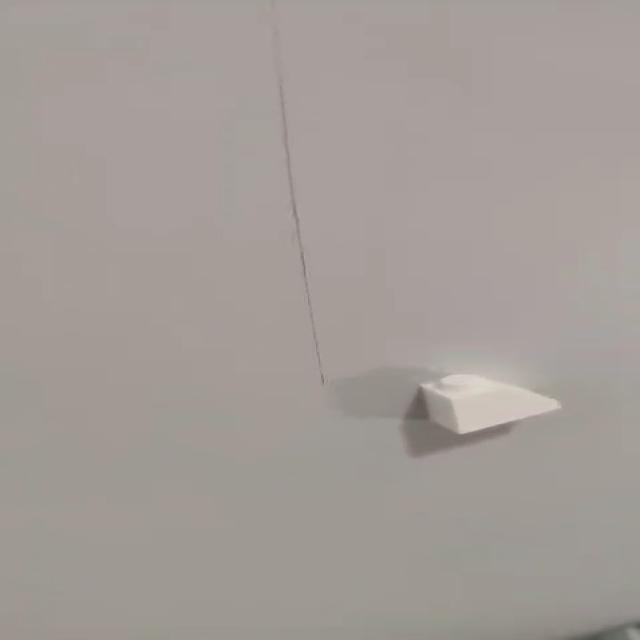P1x2x1: (417, 369, 567, 440)
